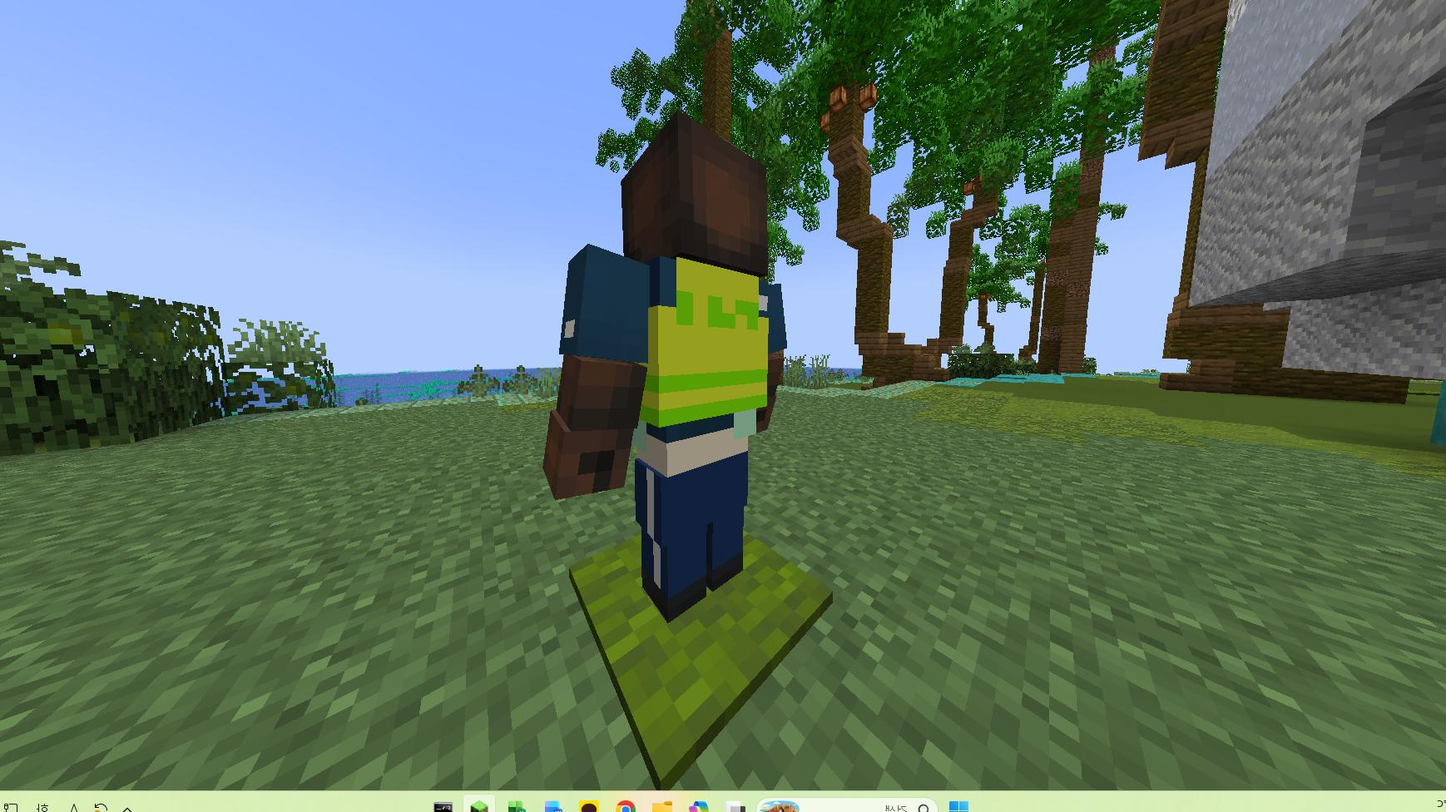Guardian: (543, 117, 787, 620)
